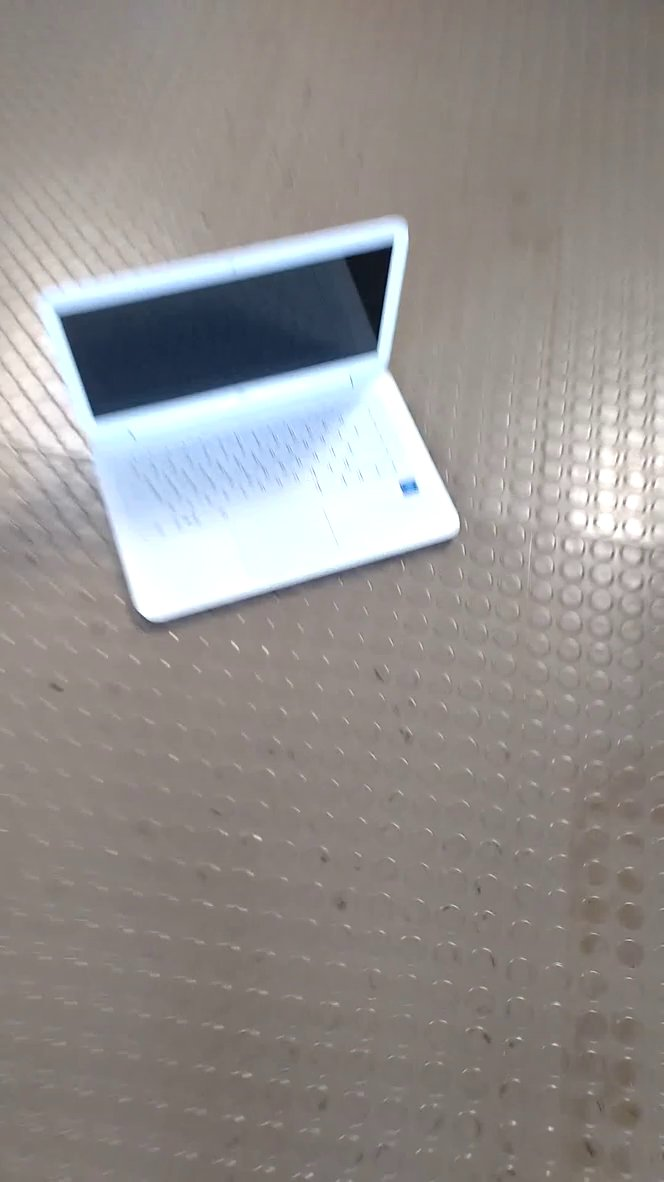laptop: (35, 208, 479, 637)
